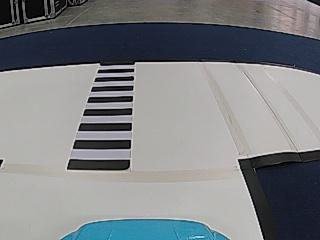CrossWalk: (65, 60, 135, 176)
